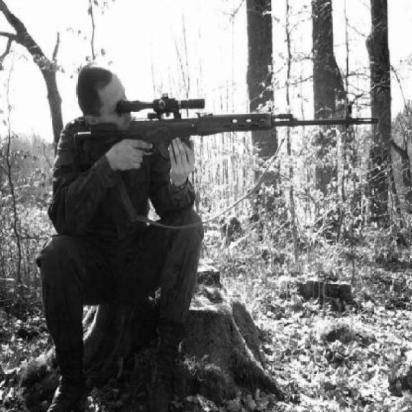Gun: (72, 96, 384, 178)
